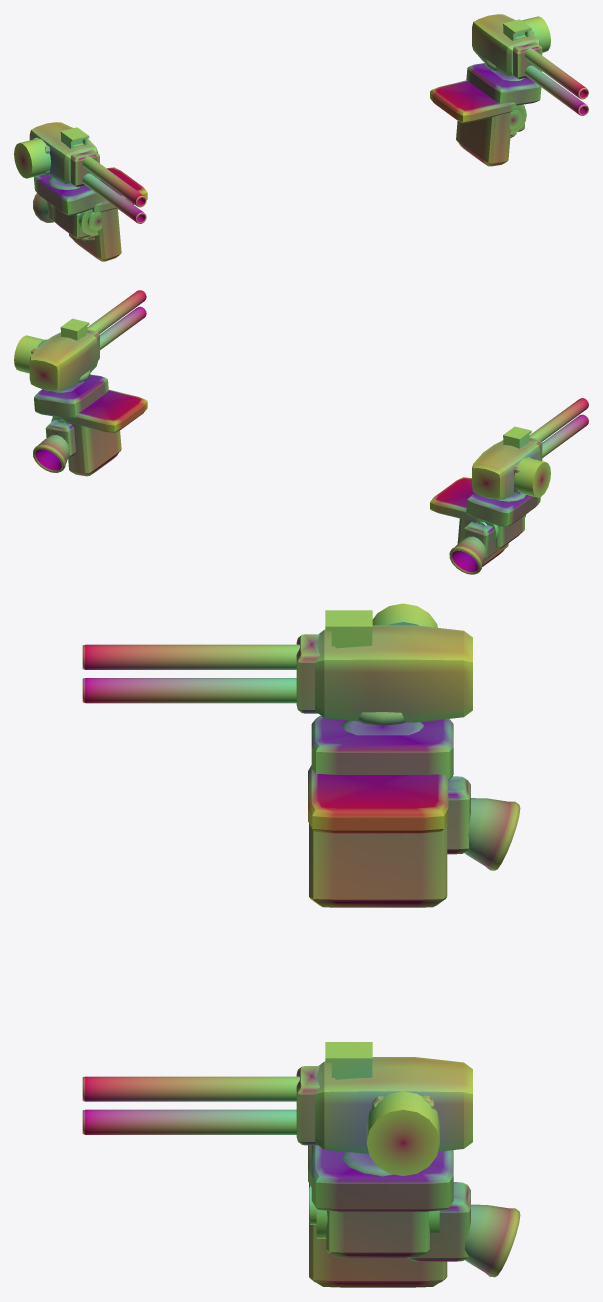
Rendered from llm_gen_shoulder_pods_066_934979.glb.
The picture shows the model from 3 angles, top to bottom: view 1: azimuth 30°, elevation 25°; view 2: azimuth 150°, elevation 25°; view 3: azimuth 270°, elevation 25°; orthographic projection. The views are drawn at different scales.
Parts seen in each view (by area): view 1: adapter_shoulder_yoke_r, adapter_shoulder_yoke_l, turret_breech_2_titanium_silver_r, turret_adapter_base_0_adapter_dark_r, turret_breech_2_titanium_silver_l, turret_adapter_base_0_adapter_dark_l, ciws_drum_mag_5_psycho_emerald_l, ciws_barrel_top_6_barrel_metal_l, ciws_barrel_top_6_barrel_metal_r, ciws_barrel_bot_7_barrel_metal_l, ciws_barrel_bot_7_barrel_metal_r, adapter_sub_ciws_shroud_dark_3_adapter_dark_l (+5 smaller); view 2: adapter_shoulder_yoke_r, turret_breech_2_titanium_silver_r, turret_breech_2_titanium_silver_l, adapter_shoulder_yoke_l, turret_adapter_base_0_adapter_dark_r, turret_adapter_base_0_adapter_dark_l, ciws_drum_mag_5_psycho_emerald_l, addon_sh_vernier_10_vernier_bell_vernier_l, addon_sh_vernier_10_vernier_bell_vernier_r, ciws_barrel_top_6_barrel_metal_r, ciws_barrel_top_6_barrel_metal_l, ciws_barrel_bot_7_barrel_metal_l (+6 smaller); view 3: adapter_shoulder_yoke_l, turret_breech_2_titanium_silver_l, adapter_shoulder_yoke_r, turret_breech_2_titanium_silver_r, turret_adapter_base_0_adapter_dark_l, turret_adapter_base_0_adapter_dark_r, ciws_barrel_top_6_barrel_metal_r, ciws_barrel_top_6_barrel_metal_l, ciws_barrel_bot_7_barrel_metal_r, ciws_barrel_bot_7_barrel_metal_l, ciws_drum_mag_5_psycho_emerald_r, addon_sh_vernier_10_vernier_bell_vernier_r (+9 smaller).
Boxes of the visible parts, x1,y1,x2,y2 form: adapter_shoulder_yoke_r: [430, 80, 526, 166]; adapter_shoulder_yoke_l: [51, 167, 147, 261]; turret_breech_2_titanium_silver_r: [472, 14, 540, 76]; turret_adapter_base_0_adapter_dark_r: [466, 63, 541, 105]; turret_breech_2_titanium_silver_l: [29, 122, 97, 184]; turret_adapter_base_0_adapter_dark_l: [34, 174, 105, 215]; ciws_drum_mag_5_psycho_emerald_l: [14, 138, 50, 178]; ciws_barrel_top_6_barrel_metal_l: [82, 156, 146, 207]; ciws_barrel_top_6_barrel_metal_r: [525, 48, 588, 99]; ciws_barrel_bot_7_barrel_metal_l: [82, 173, 146, 223]; ciws_barrel_bot_7_barrel_metal_r: [525, 65, 588, 115]; adapter_sub_ciws_shroud_dark_3_adapter_dark_l: [70, 149, 99, 186]; adapter_shoulder_yoke_r: [51, 389, 147, 476]; turret_breech_2_titanium_silver_r: [29, 332, 97, 391]; turret_breech_2_titanium_silver_l: [472, 440, 540, 499]; adapter_shoulder_yoke_l: [430, 477, 525, 566]; turret_adapter_base_0_adapter_dark_r: [34, 374, 108, 418]; turret_adapter_base_0_adapter_dark_l: [466, 493, 540, 527]; ciws_drum_mag_5_psycho_emerald_l: [514, 457, 550, 497]; addon_sh_vernier_10_vernier_bell_vernier_l: [449, 536, 486, 574]; addon_sh_vernier_10_vernier_bell_vernier_r: [33, 435, 69, 472]; ciws_barrel_top_6_barrel_metal_r: [87, 290, 146, 333]; ciws_barrel_top_6_barrel_metal_l: [529, 398, 588, 441]; ciws_barrel_bot_7_barrel_metal_l: [542, 414, 588, 457]; adapter_shoulder_yoke_l: [308, 765, 448, 907]; turret_breech_2_titanium_silver_l: [315, 625, 472, 722]; adapter_shoulder_yoke_r: [308, 1145, 447, 1287]; turret_breech_2_titanium_silver_r: [315, 1057, 472, 1153]; turret_adapter_base_0_adapter_dark_l: [311, 716, 453, 780]; turret_adapter_base_0_adapter_dark_r: [311, 1145, 453, 1211]; ciws_barrel_top_6_barrel_metal_r: [82, 1076, 299, 1101]; ciws_barrel_top_6_barrel_metal_l: [82, 644, 299, 669]; ciws_barrel_bot_7_barrel_metal_r: [82, 1109, 296, 1134]; ciws_barrel_bot_7_barrel_metal_l: [82, 678, 296, 703]; ciws_drum_mag_5_psycho_emerald_r: [366, 1091, 439, 1175]; addon_sh_vernier_10_vernier_bell_vernier_r: [464, 1204, 520, 1277].
Size of the model in its own units: 111 by 26.23 by 40.52.
